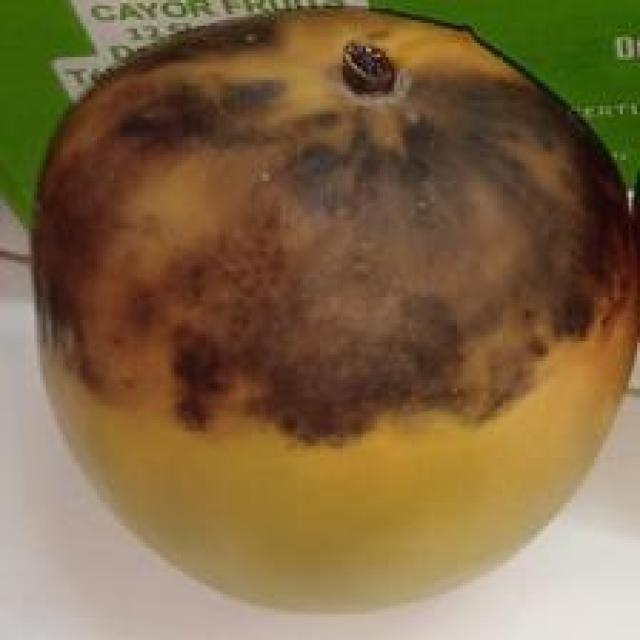Bad_Mango: (32, 10, 640, 608)
